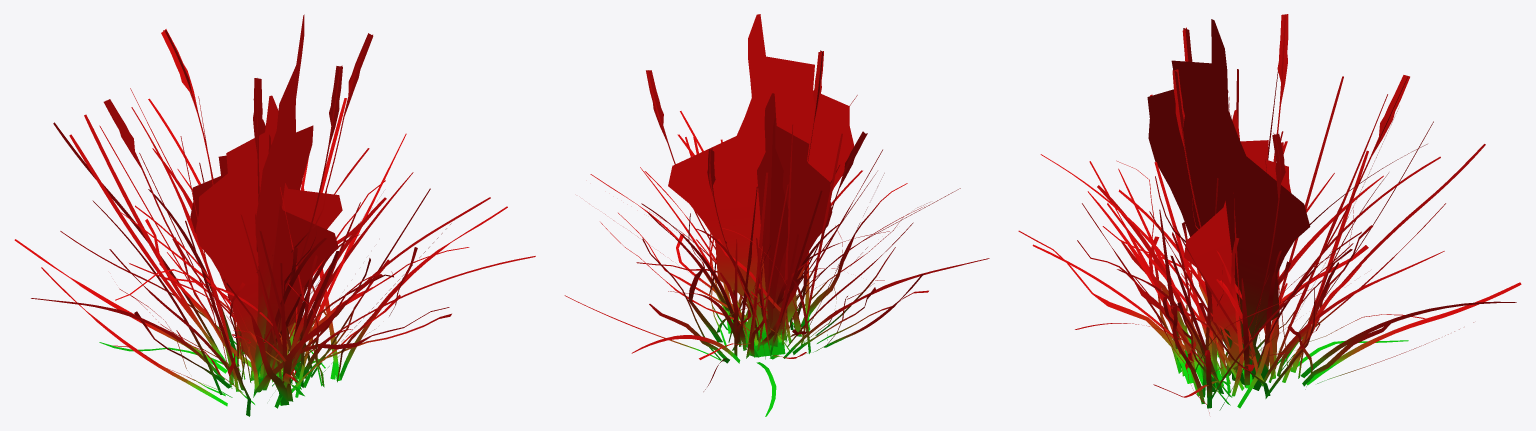
File: Var1_LOD0.fbx
The picture shows the model from 3 angles, left to right: view 1: azimuth 30°, elevation 25°; view 2: azimuth 150°, elevation 25°; view 3: azimuth 270°, elevation 25°; orthographic projection. The views are drawn at different scales.
Parts seen in each view (by area): view 1: _0ygx_Var1_LOD0; view 2: _0ygx_Var1_LOD0; view 3: _0ygx_Var1_LOD0.
Boxes of the visible parts, left/top/right/bottom form: _0ygx_Var1_LOD0: left=14, top=14, right=535, bottom=416; _0ygx_Var1_LOD0: left=564, top=14, right=989, bottom=416; _0ygx_Var1_LOD0: left=1018, top=14, right=1521, bottom=413.
Bounding box in the file's own units: 53.05 × 40.87 × 49.01.
